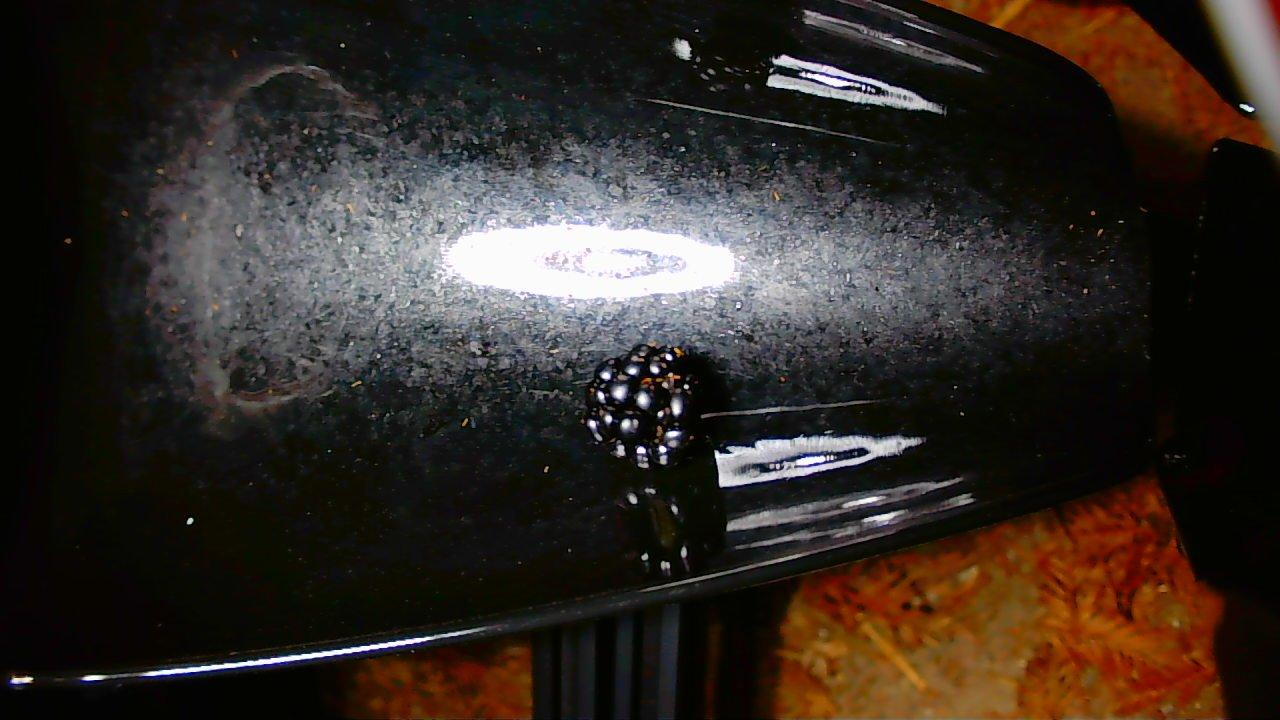berry: (582, 345, 700, 469)
